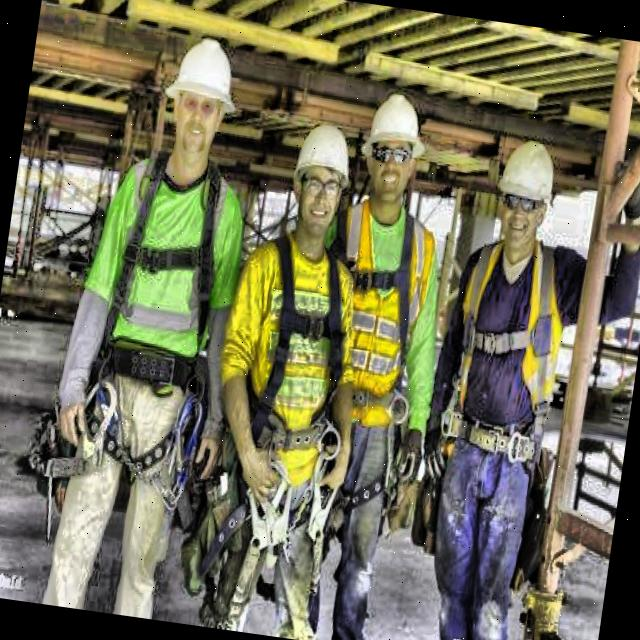helmet: (154, 29, 244, 181), (484, 128, 566, 260), (352, 84, 434, 216), (278, 114, 360, 242)
